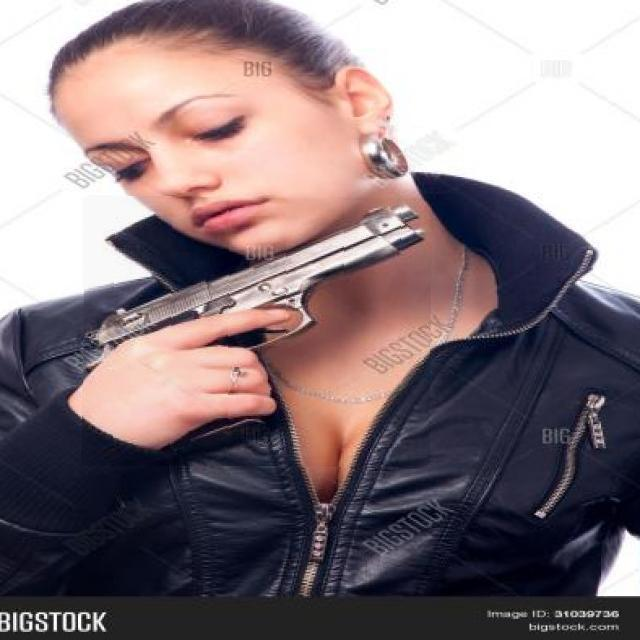handgun: (82, 197, 431, 468)
